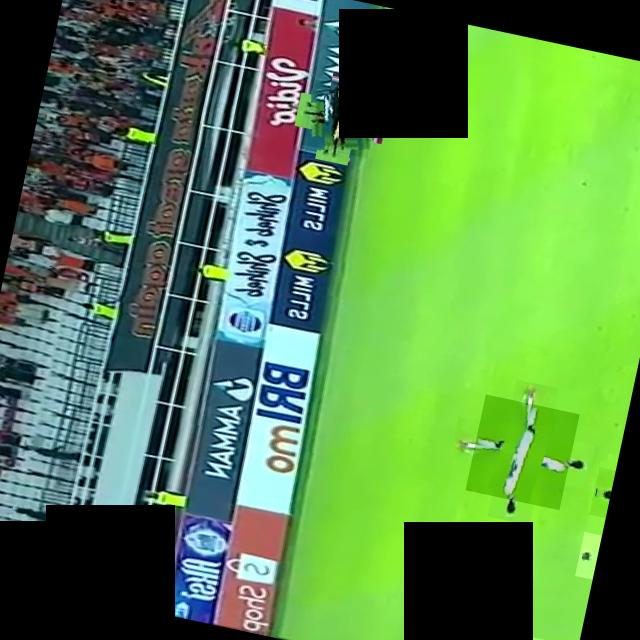referee: (300, 78, 380, 158)
soccer-player: (464, 394, 578, 509), (426, 617, 577, 640), (588, 467, 616, 518), (574, 531, 602, 579)
